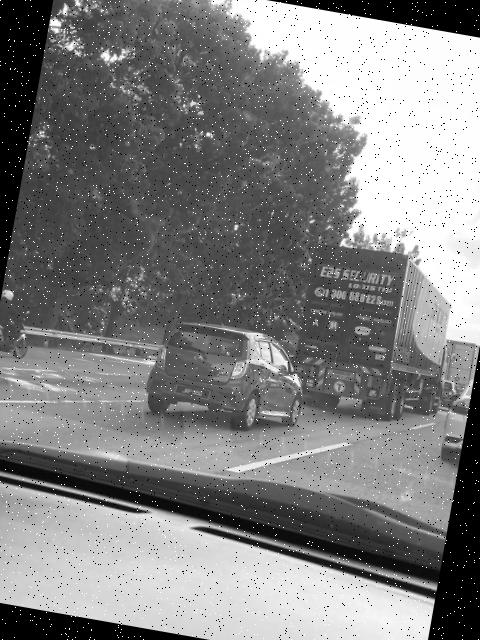License_Plate: (171, 380, 213, 405)
car: (144, 313, 315, 442)
